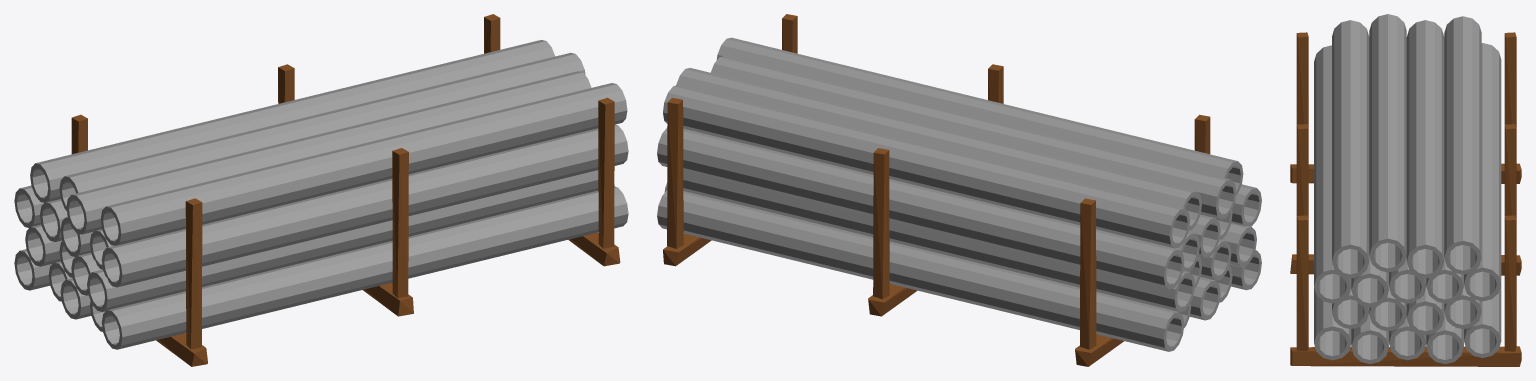
The model's file is pipes.glb.
3 renders of one model, left to right at view 1: azimuth 30°, elevation 25°; view 2: azimuth 150°, elevation 25°; view 3: azimuth 270°, elevation 25°, orthographic. The views are drawn at different scales.
Parts seen in each view (by area): view 1: Pipe Holder A; view 2: Pipe Holder A; view 3: Pipe Holder A.
Part boxes in pixels (<box>): Pipe Holder A: <box>14,14,628,366</box>; Pipe Holder A: <box>657,14,1261,366</box>; Pipe Holder A: <box>1290,14,1521,366</box>.
Size of the model in its own units: 0.4 by 0.1183 by 0.1697.
